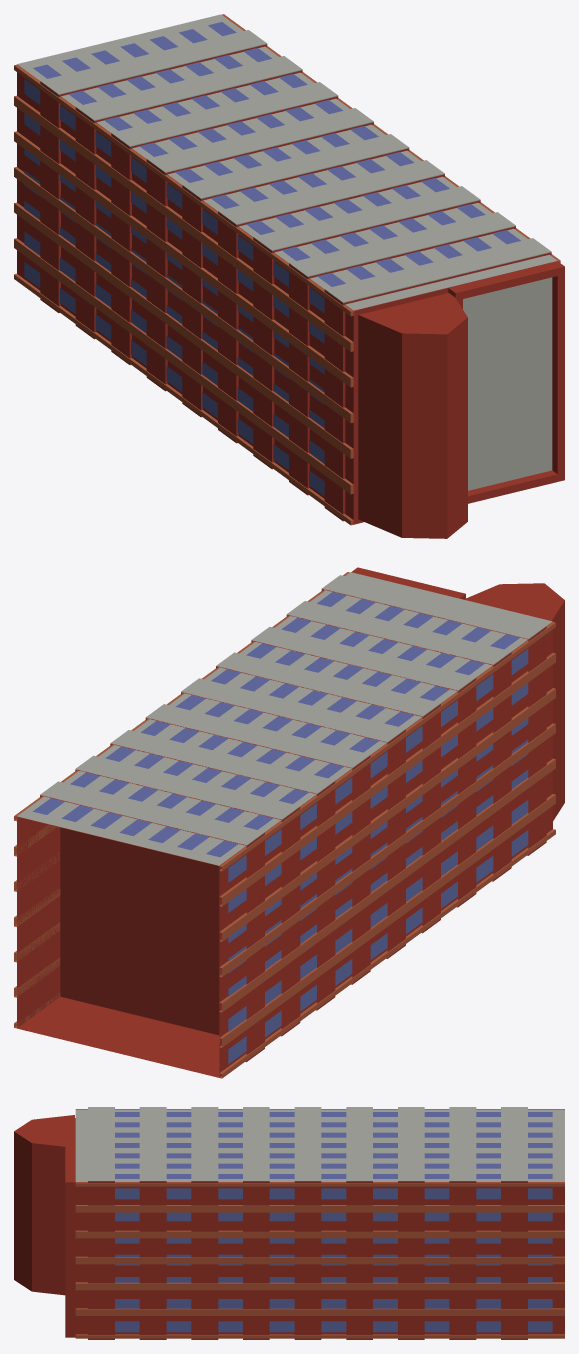
Rendered from construction_2.glb.
3 renders of one model, top to bottom at view 1: azimuth 30°, elevation 25°; view 2: azimuth 150°, elevation 25°; view 3: azimuth 270°, elevation 25°, orthographic. The views are drawn at different scales.
Parts seen in each view (by area): view 1: construction_2; view 2: construction_2; view 3: construction_2.
Boxes of the visible parts, x1,y1,x2,y2 form: construction_2: [14, 14, 564, 538]; construction_2: [14, 567, 564, 1078]; construction_2: [14, 1107, 564, 1339].
Size of the model in its own units: 14.4 by 14.35 by 45.05.
